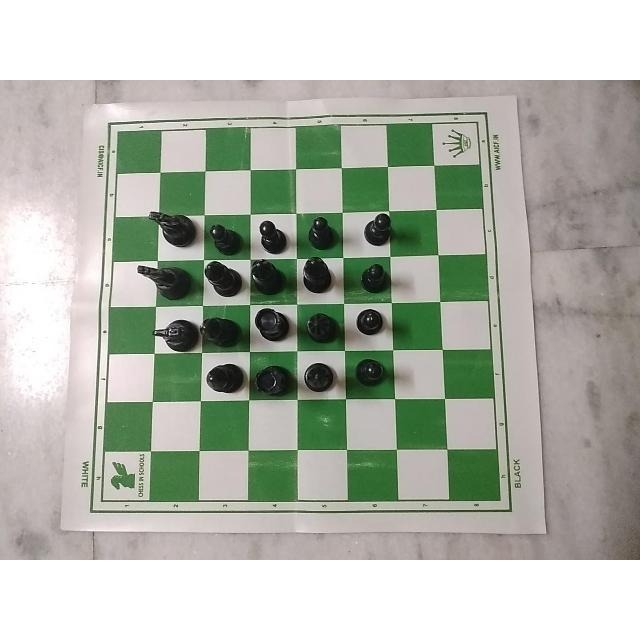black-bishop: (198, 359, 251, 400), (196, 311, 246, 351), (201, 258, 246, 302), (249, 257, 291, 301), (297, 309, 341, 350), (296, 255, 340, 296), (298, 360, 342, 400)
black-knight: (133, 257, 194, 299), (149, 308, 199, 356), (143, 208, 195, 248)
black-pawn: (253, 214, 297, 256), (205, 222, 249, 256), (304, 213, 340, 251), (352, 302, 388, 339), (353, 353, 387, 384), (362, 210, 392, 242), (362, 260, 387, 293)
black-rook: (251, 359, 300, 402), (248, 304, 289, 344)
